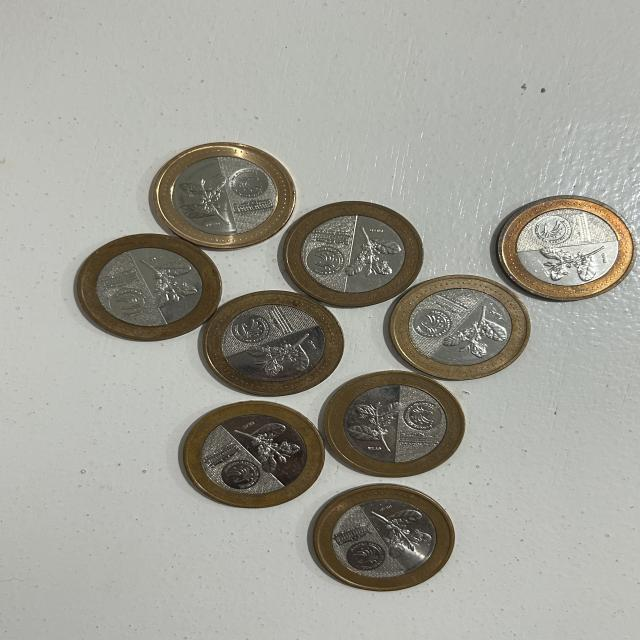20_New_Back: (174, 172, 240, 223), (370, 507, 434, 557), (246, 334, 319, 377), (350, 396, 402, 456), (350, 225, 404, 281), (138, 257, 198, 307), (449, 306, 507, 356), (234, 426, 298, 469), (538, 247, 611, 284)
